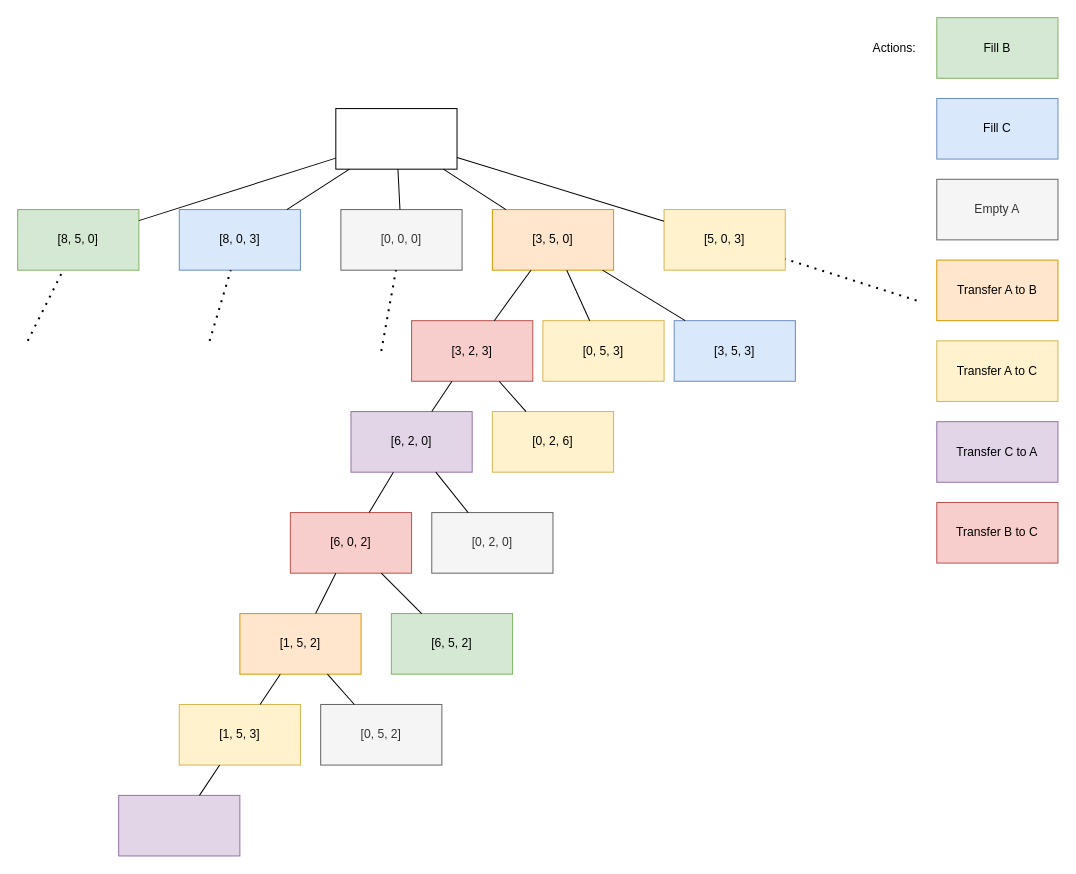
Image size: 1076x874. Some labels were removed from this diagram. The shapes that lost their labels are listed below. From the top down, each one's centre as x and y in pixels, then its label:
(396,138): [8, 0, 0] (initial state)
(179,825): [4, 4, 0] (goal state)
